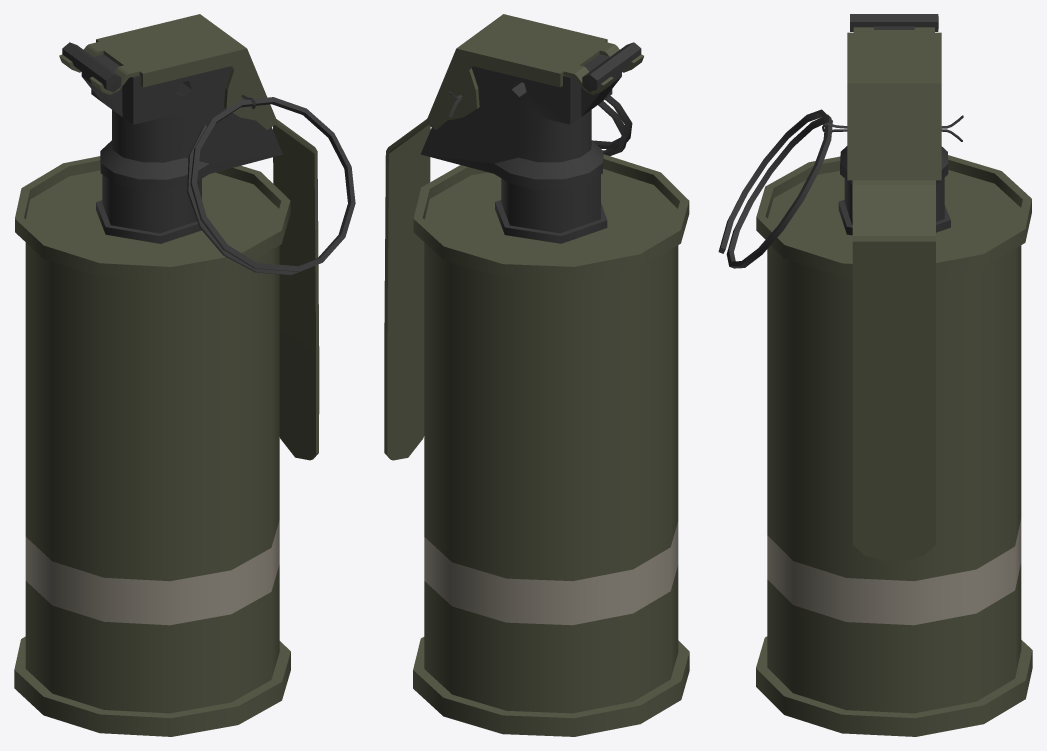
The model's file is Mod_SmokeBomb.glb.
3 renders of one model, left to right at view 1: azimuth 30°, elevation 25°; view 2: azimuth 150°, elevation 25°; view 3: azimuth 270°, elevation 25°, orthographic.
Parts seen in each view (by area): view 1: Mod_SmokeBomb; view 2: Mod_SmokeBomb; view 3: Mod_SmokeBomb.
Boxes of the visible parts, <box> form: Mod_SmokeBomb: <box>14,14,355,736</box>; Mod_SmokeBomb: <box>384,14,689,736</box>; Mod_SmokeBomb: <box>718,14,1032,736</box>.
Bounding box in the file's own units: 0.0614 × 0.1404 × 0.0629.
1 material, 1 textured.
